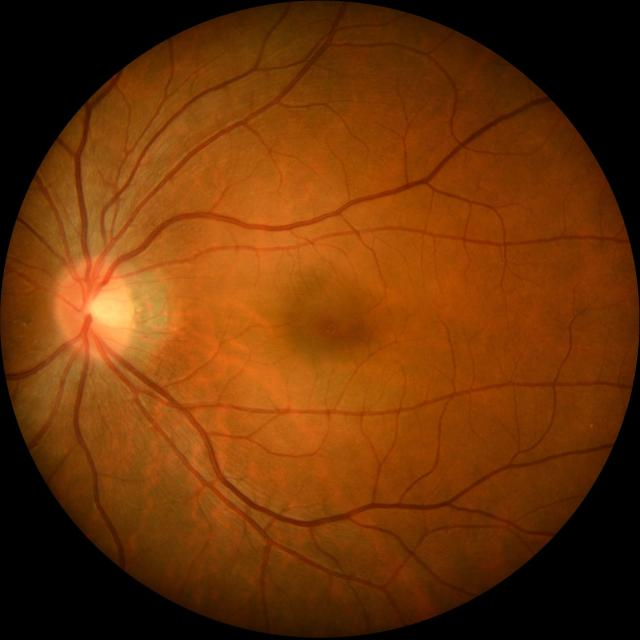OC: (85, 286, 124, 326)
OD: (55, 258, 136, 358)
